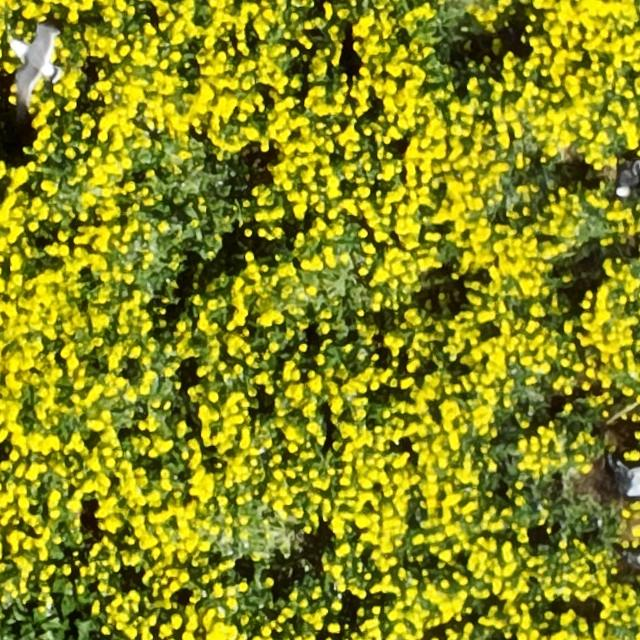F: (13, 24, 68, 110)
umineko: (616, 159, 636, 196)
